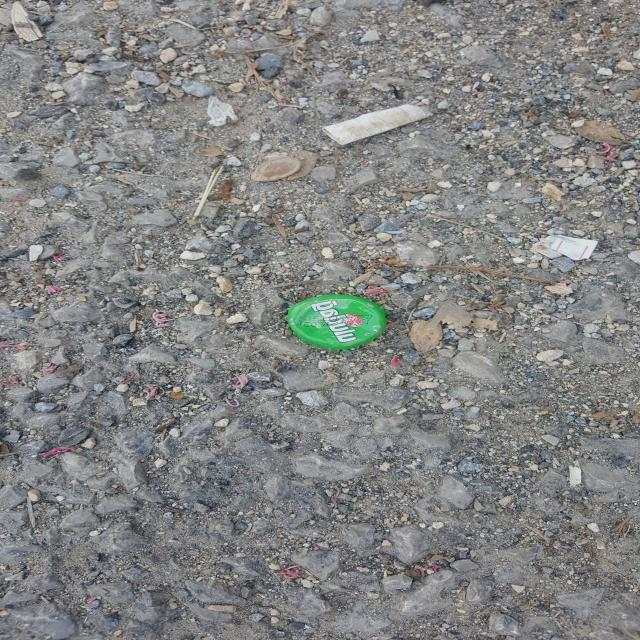Cigarette: (321, 104, 428, 145)
Metal bottle cap: (286, 294, 387, 350)
Other plastic bottle: (151, 308, 176, 327), (275, 564, 300, 579), (40, 447, 75, 457), (363, 285, 387, 296), (232, 374, 248, 389), (117, 371, 135, 384), (145, 385, 158, 400), (279, 102, 304, 109), (605, 150, 618, 163), (595, 142, 610, 153), (1, 377, 17, 386), (425, 565, 441, 574), (40, 366, 57, 374), (47, 286, 62, 295), (225, 398, 240, 407), (52, 252, 64, 263), (1, 345, 27, 350), (390, 356, 400, 367), (416, 567, 424, 577), (87, 597, 96, 604), (13, 199, 26, 202), (314, 543, 320, 548), (559, 281, 569, 284), (336, 493, 339, 499)
Unlabeled litter: (551, 236, 597, 261)
